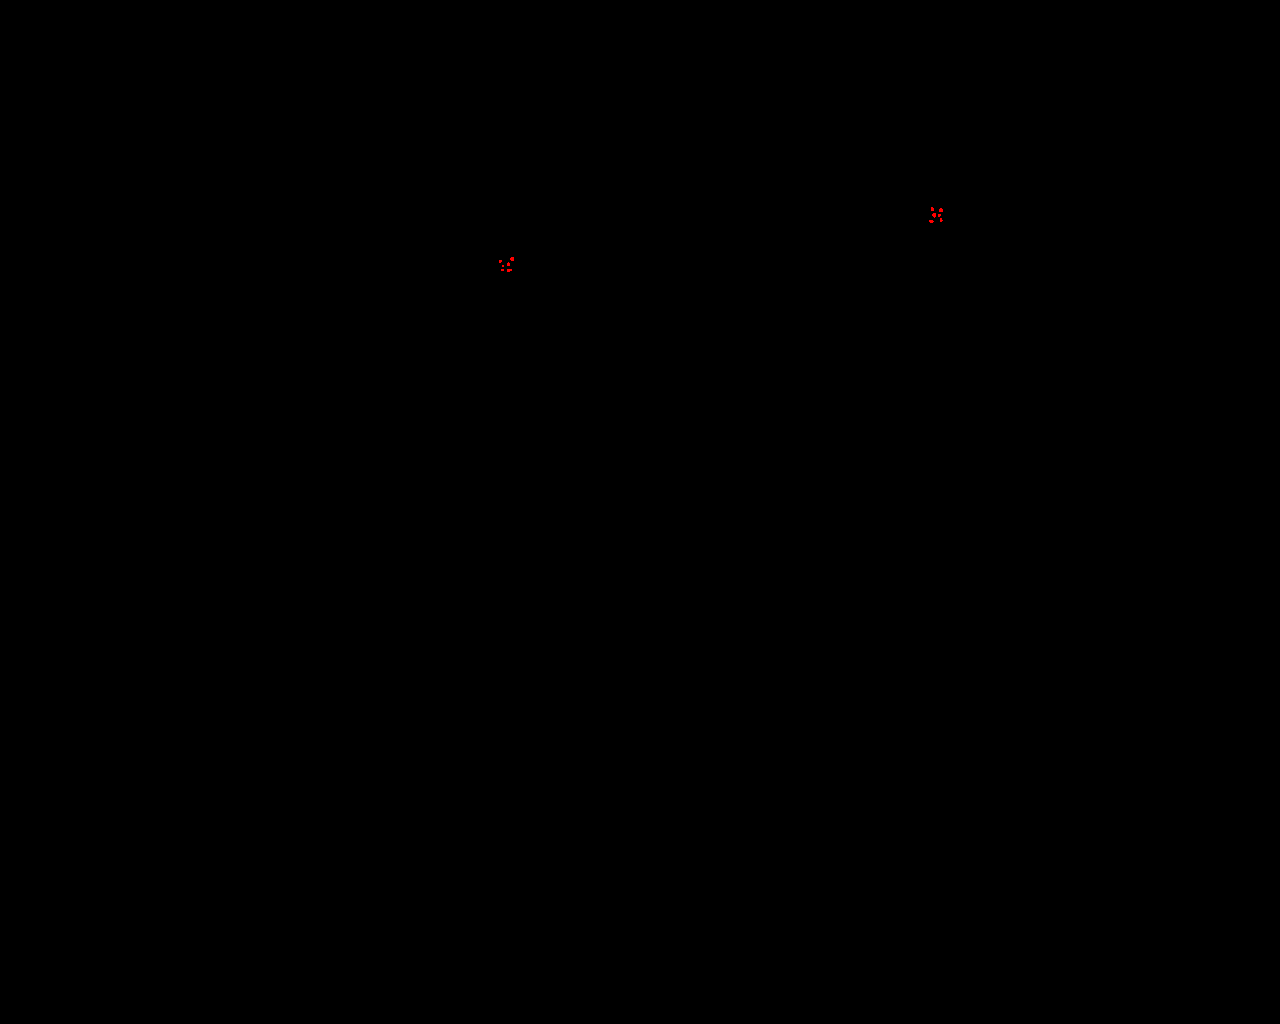Target: (932, 213, 936, 218), (510, 257, 514, 261), (507, 269, 512, 272), (931, 207, 934, 211), (939, 208, 942, 212), (507, 262, 510, 266), (929, 220, 934, 223), (938, 214, 941, 217), (940, 218, 942, 222), (499, 260, 502, 263), (501, 269, 504, 271), (502, 265, 504, 267)
